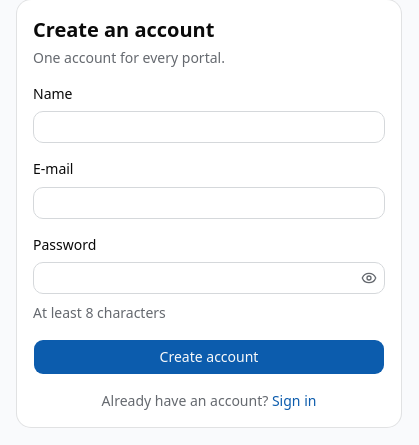
Test: RegisterPage › explains the password rule and sends nothing
This screenshot has width=419, height=445.
Type "Ana Client" into the field labelled "Name" at (209, 127), box [33, 111, 385, 143]
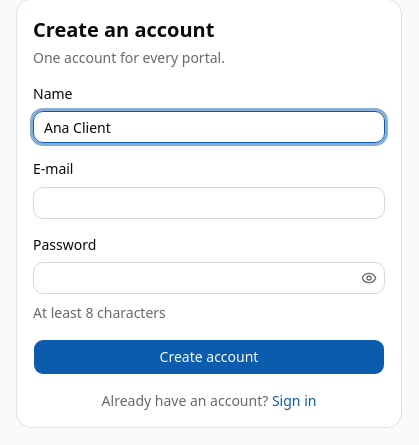
Type "ana@example.com" into the field labelled "E-mail" at (209, 202), box [33, 186, 385, 218]
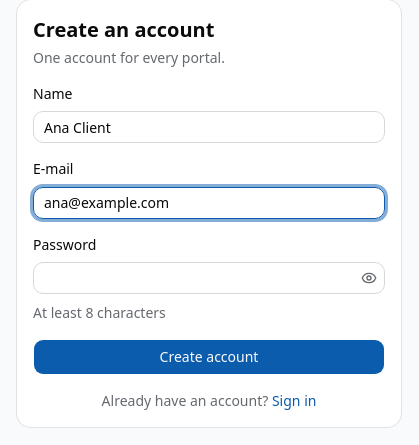
Type "short" into the password field labelled "Password" at (195, 278), box [34, 262, 357, 294]
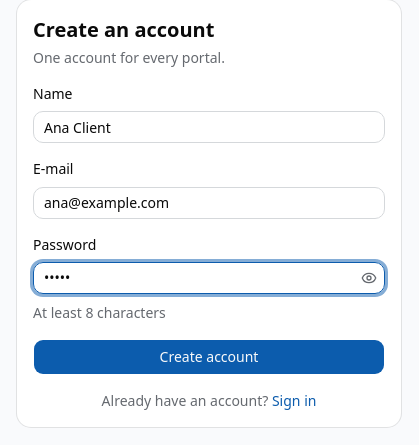
Click the button "Create account" at (209, 357), box [33, 339, 385, 375]
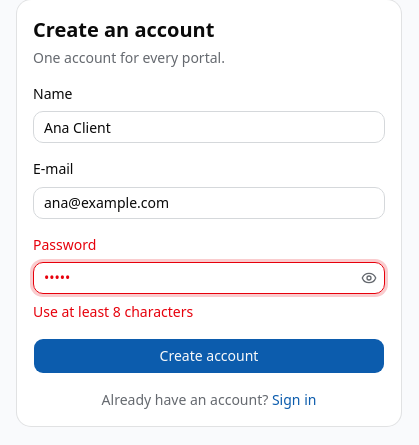
Result: the text "Use at least 8 characters" is shown at [33, 302, 193, 321]
